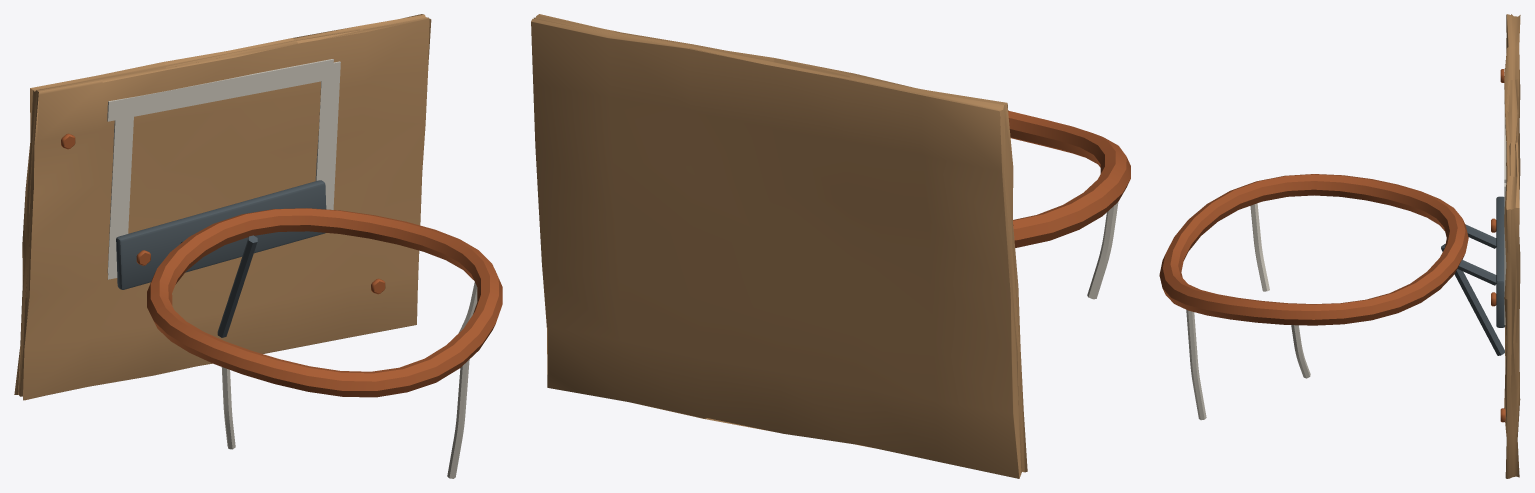
File: alley_hoop.glb
3 views of the same model, side by side, from view 1: azimuth 30°, elevation 25°; view 2: azimuth 150°, elevation 25°; view 3: azimuth 270°, elevation 25° (orthographic). The views are drawn at different scales.
Visible parts, largest first — view 1: Hoop; view 2: Hoop; view 3: Hoop.
Part boxes in pixels (x1,y1,x2,y2): Hoop: (14,14,502,478); Hoop: (531,14,1130,478); Hoop: (1159,14,1520,478).
Bounding box in the file's own units: 0.993 × 0.7525 × 0.829.
